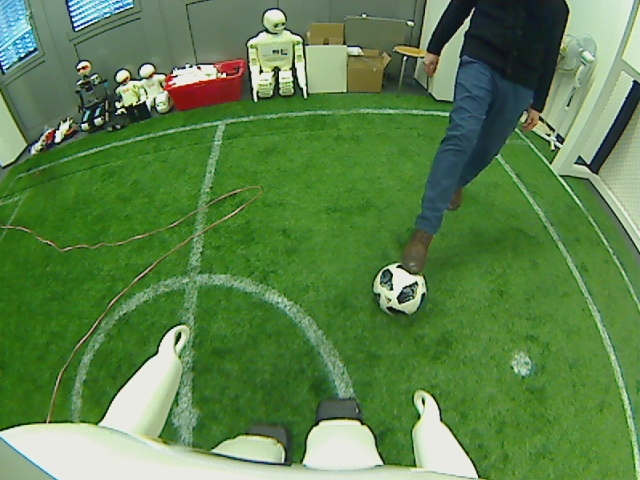ball: (372, 261, 427, 315)
